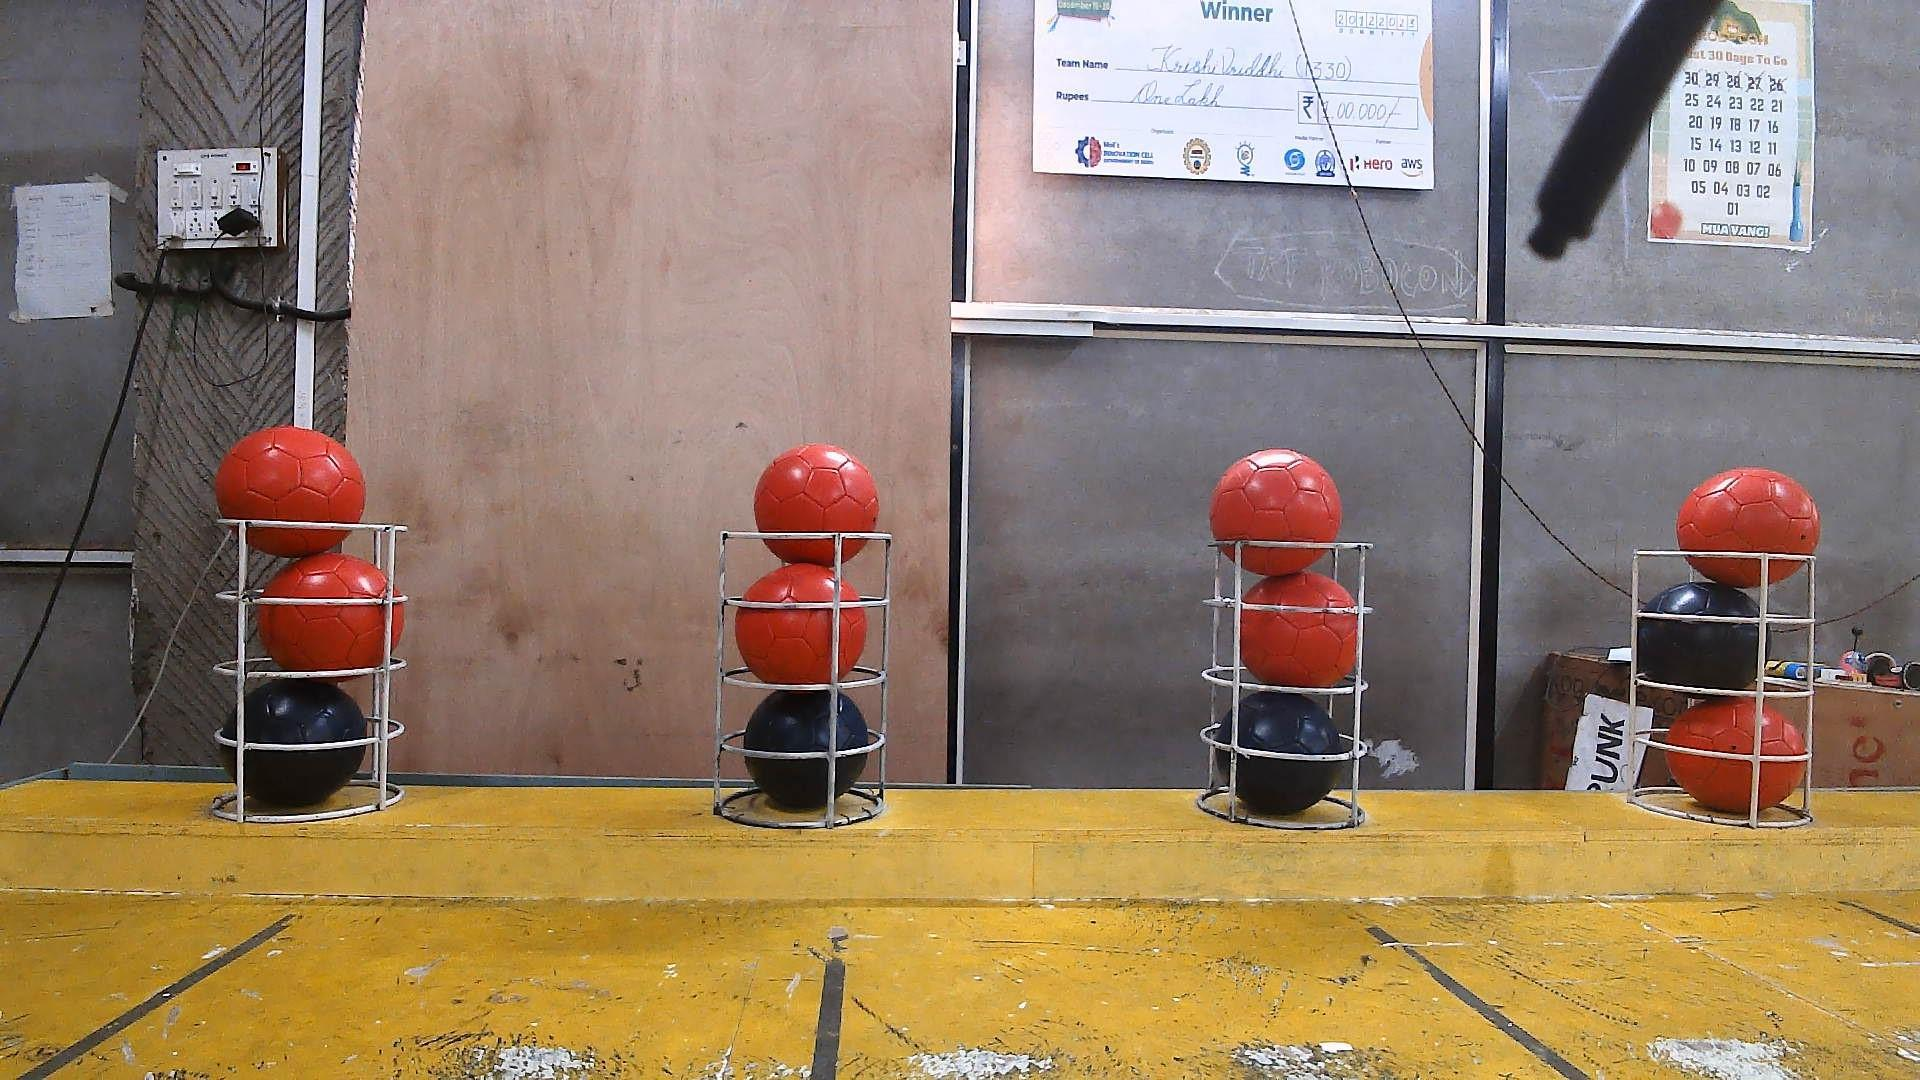dhoka: (218, 679, 368, 806), (1215, 690, 1342, 814), (742, 690, 870, 810), (1635, 582, 1774, 690)
laale: (214, 423, 364, 559), (258, 551, 405, 671), (1208, 450, 1342, 578), (1676, 468, 1818, 588), (1665, 698, 1808, 814), (735, 563, 866, 686), (754, 443, 877, 566), (1241, 570, 1357, 686)
